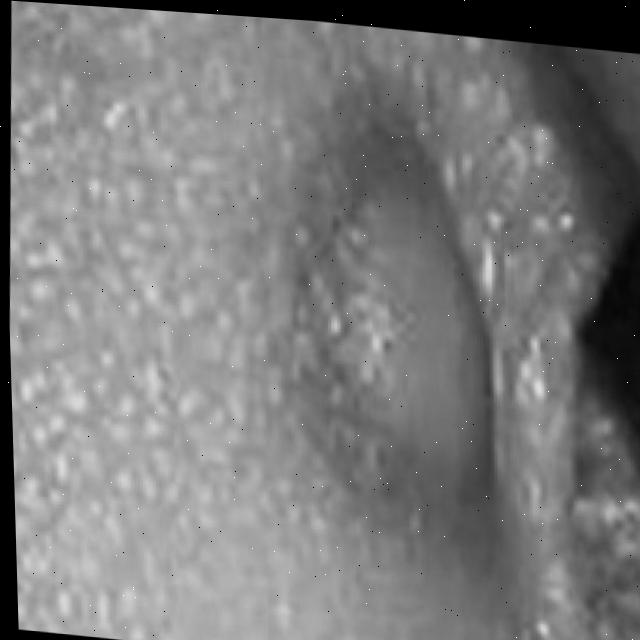Eczema: (310, 70, 640, 587)
